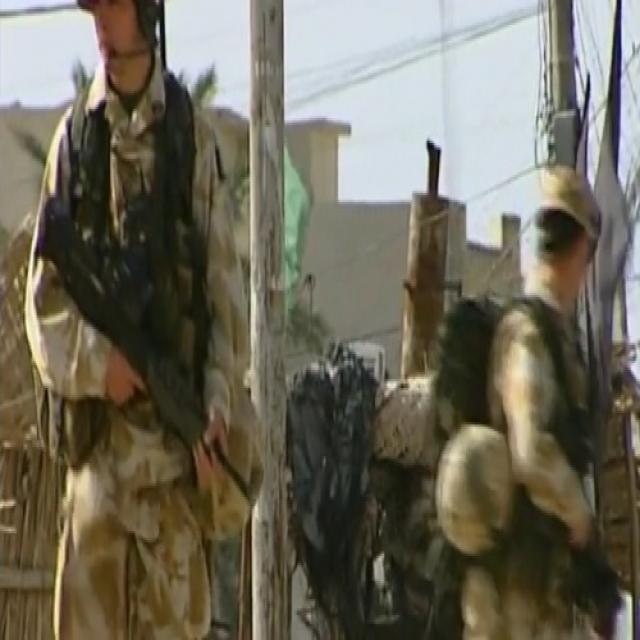rifle: (47, 212, 257, 508)
